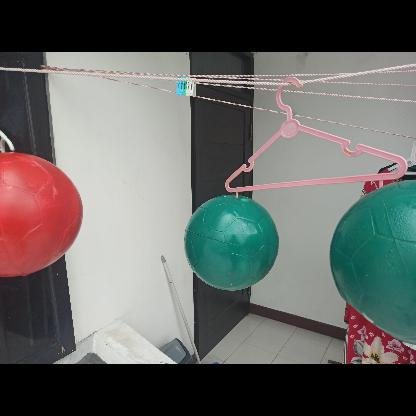green_ball: (181, 194, 277, 290)
